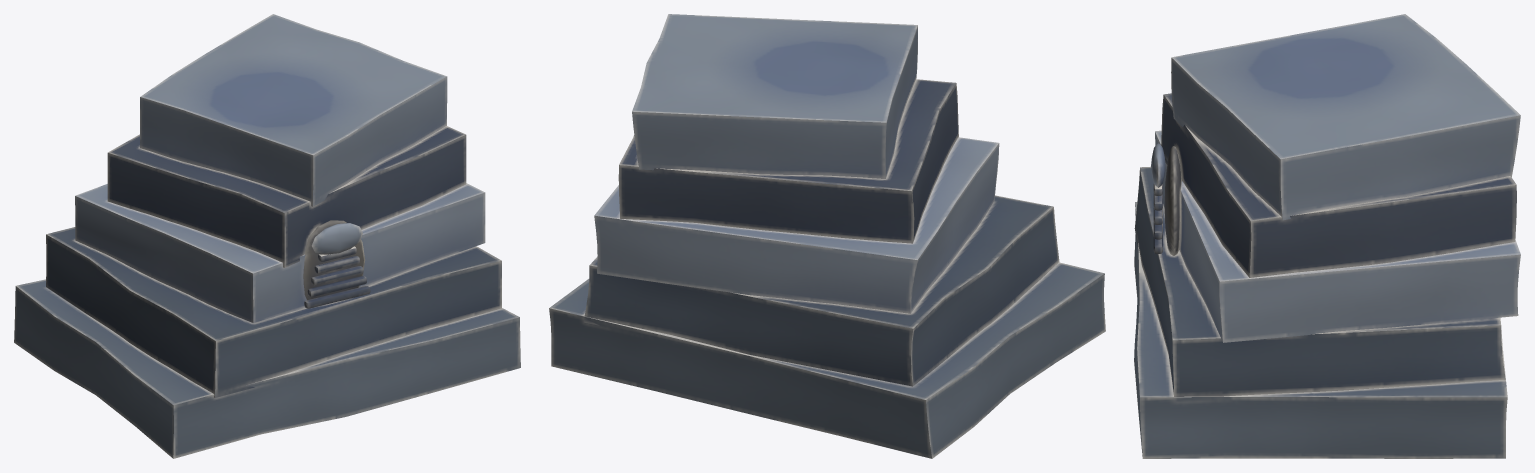
File: node_deep_rock.glb
The picture shows the model from 3 angles, left to right: view 1: azimuth 30°, elevation 25°; view 2: azimuth 150°, elevation 25°; view 3: azimuth 270°, elevation 25°; orthographic projection. The views are drawn at different scales.
Visible parts, largest first — view 1: SM_NodeDeepRock; view 2: SM_NodeDeepRock; view 3: SM_NodeDeepRock.
Part boxes in pixels (x1,y1,x2,y2): SM_NodeDeepRock: (14, 14, 520, 458); SM_NodeDeepRock: (549, 14, 1105, 458); SM_NodeDeepRock: (1134, 14, 1520, 458).
Size of the model in its own units: 1.53 by 1.08 by 1.26.
Materials: 1 (1 with a texture image).
